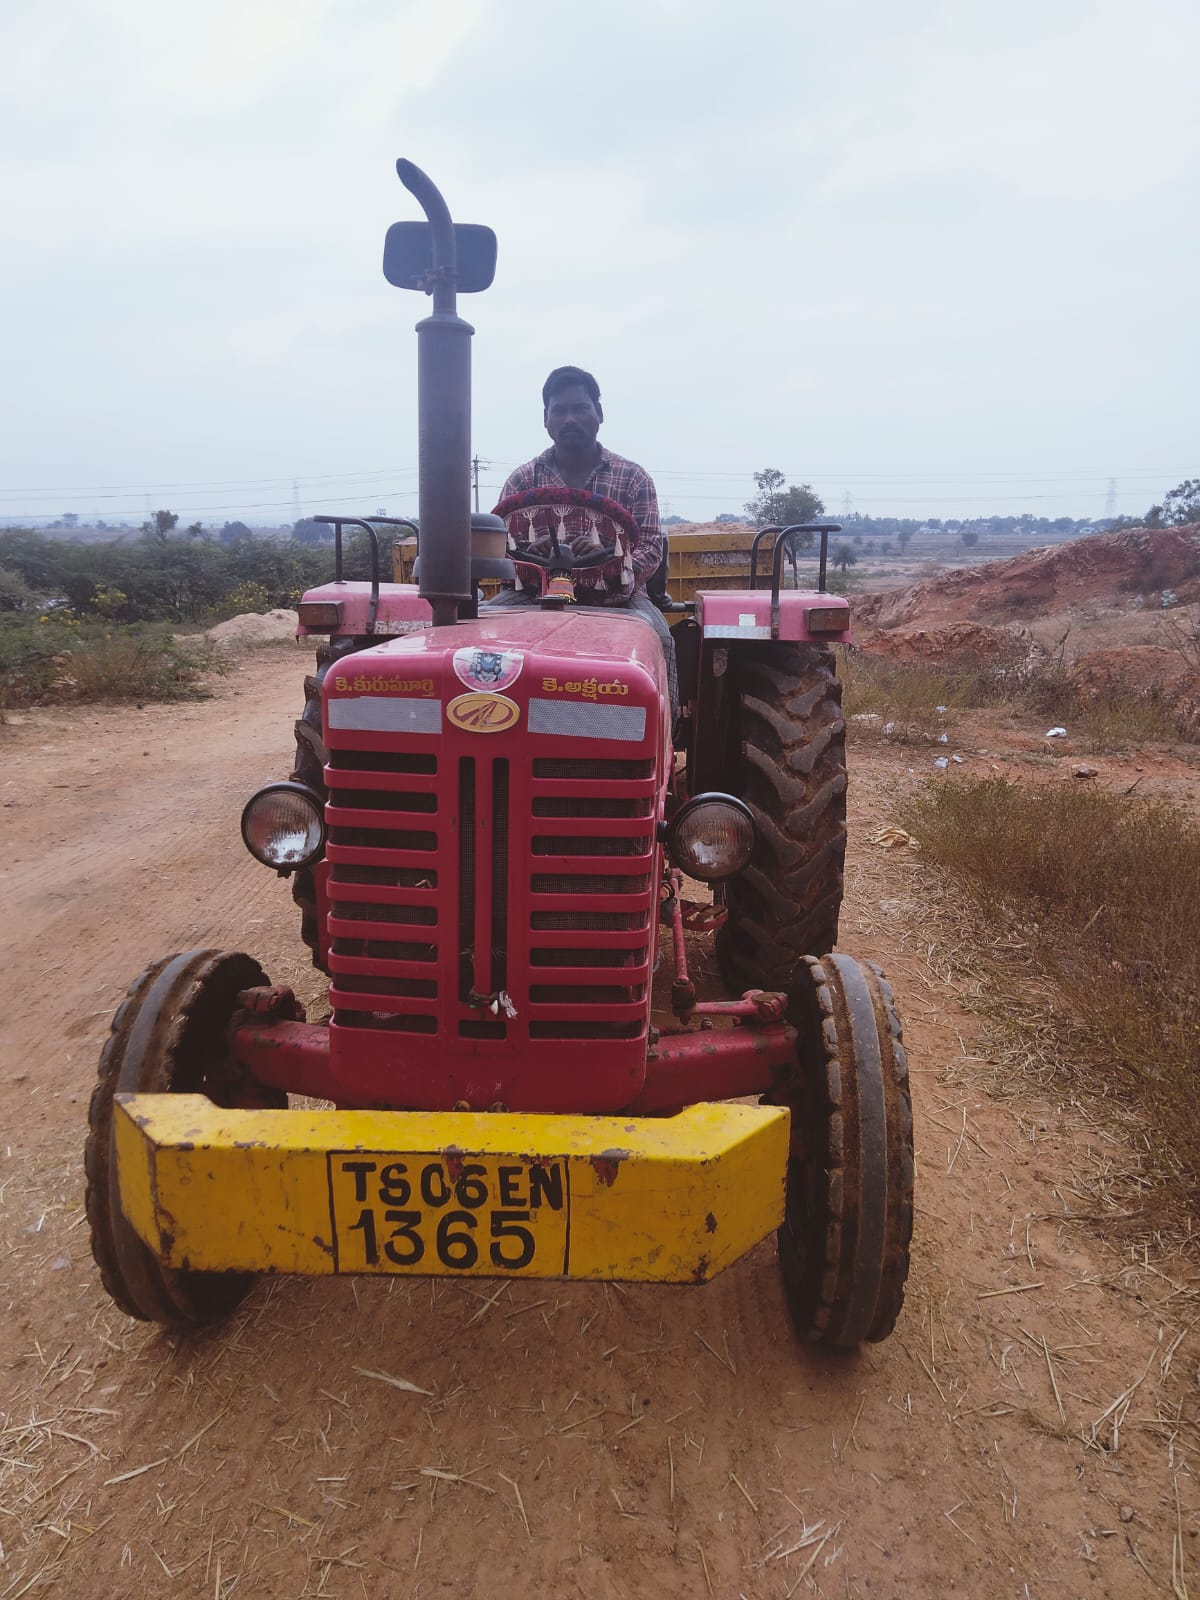license_plate: (322, 1146, 578, 1290)
